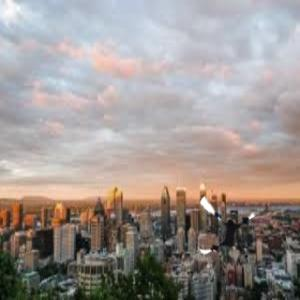drone: (187, 190, 262, 265)
